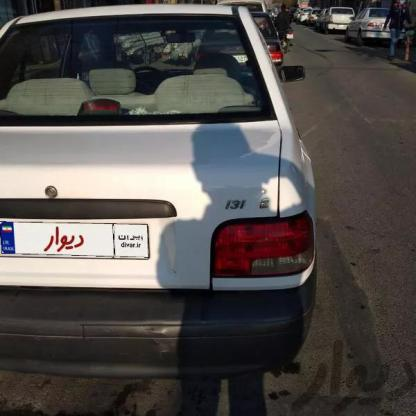Car: (0, 0, 321, 362), (216, 0, 292, 82), (313, 0, 349, 35), (352, 0, 379, 46)
